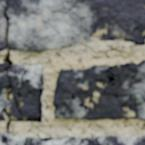brick: (54, 61, 144, 119)
broken_brick: (0, 0, 144, 51), (8, 64, 44, 122), (0, 131, 144, 144), (0, 62, 8, 107)
crack: (0, 2, 27, 142), (68, 66, 124, 111)
